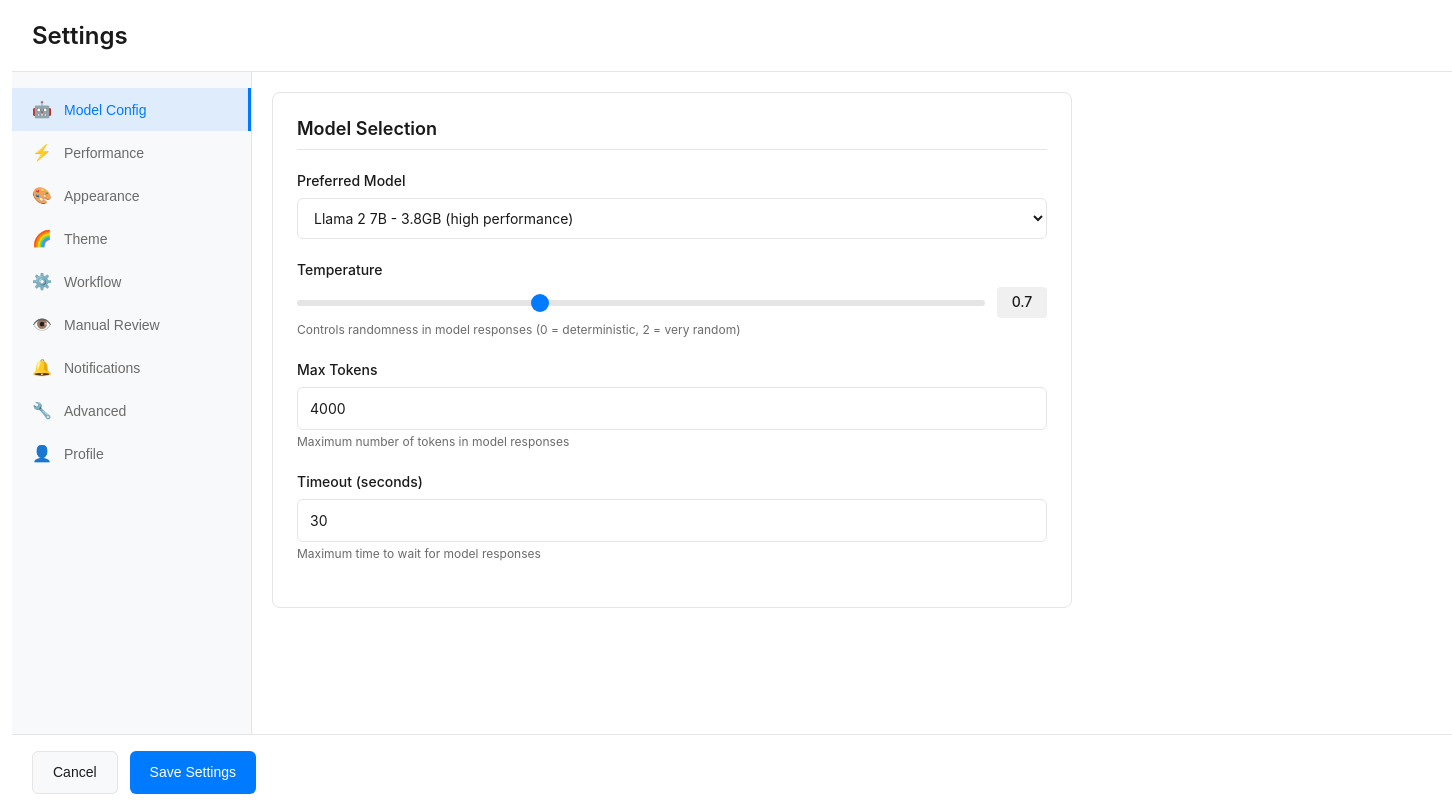
Settings Component › switches between tabs when clicked
The width and height of the screenshot is (1452, 810).
Expected: the heading "Settings" is shown, x1=32 y1=20 x2=128 y2=51
Note: Click on Performance tab
Click the text "Performance" at (104, 153), box x1=64 y1=145 x2=144 y2=161
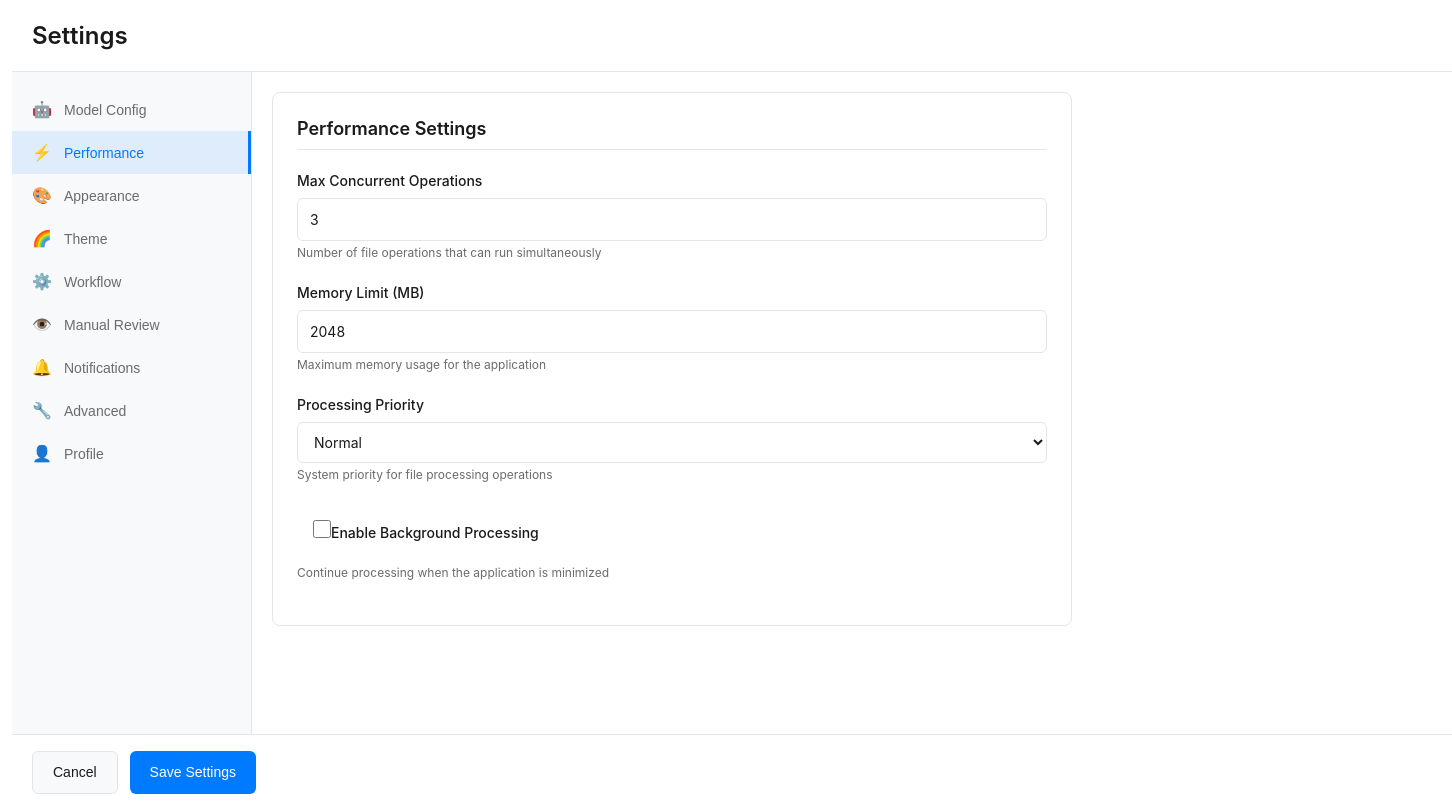
Result: the heading "Performance Settings" is shown at x1=297 y1=117 x2=1047 y2=150
Result: the text "Max Concurrent Operations" is shown at x1=297 y1=172 x2=482 y2=189
